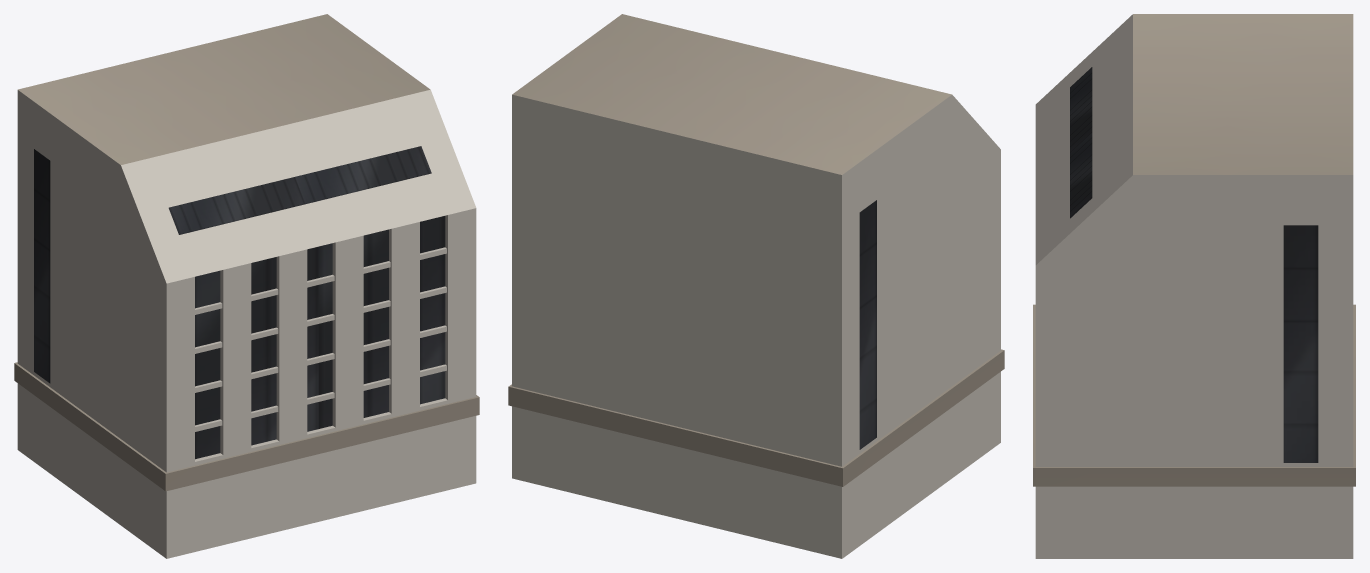
Rendered from Bld_Building_A_low.fbx.
The picture shows the model from 3 angles, left to right: view 1: azimuth 30°, elevation 25°; view 2: azimuth 150°, elevation 25°; view 3: azimuth 270°, elevation 25°; orthographic projection. The views are drawn at different scales.
Parts seen in each view (by area): view 1: Bld_Building_A_low; view 2: Bld_Building_A_low; view 3: Bld_Building_A_low.
Boxes of the visible parts, x1,y1,x2,y2 form: Bld_Building_A_low: (14,14,479,558); Bld_Building_A_low: (508,14,1004,558); Bld_Building_A_low: (1033,14,1355,558).
Bounding box in the file's own units: 1825 × 2000 × 1525.
